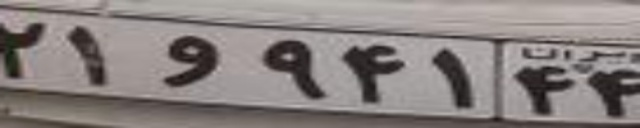1: (428, 48, 476, 107), (65, 23, 105, 83)
2: (0, 20, 50, 79)
4: (340, 45, 406, 102), (517, 65, 575, 115), (585, 67, 637, 116)
9: (260, 39, 324, 98)
vav: (159, 35, 219, 87)
